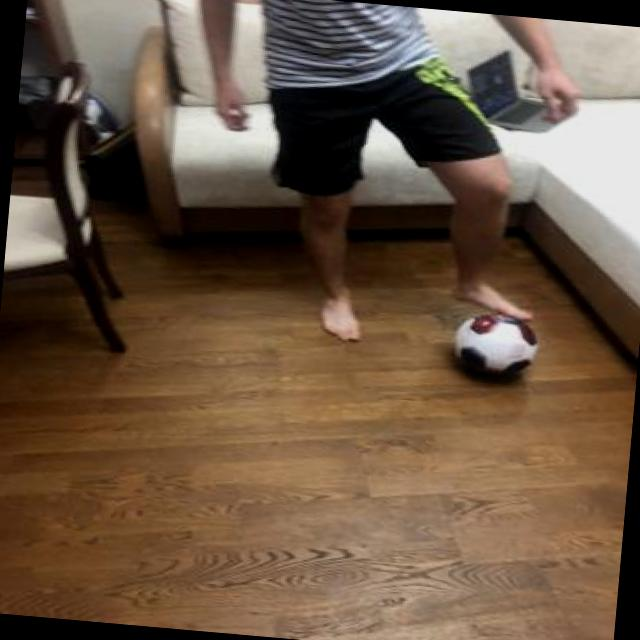Soccer Ball: (450, 304, 545, 382)
